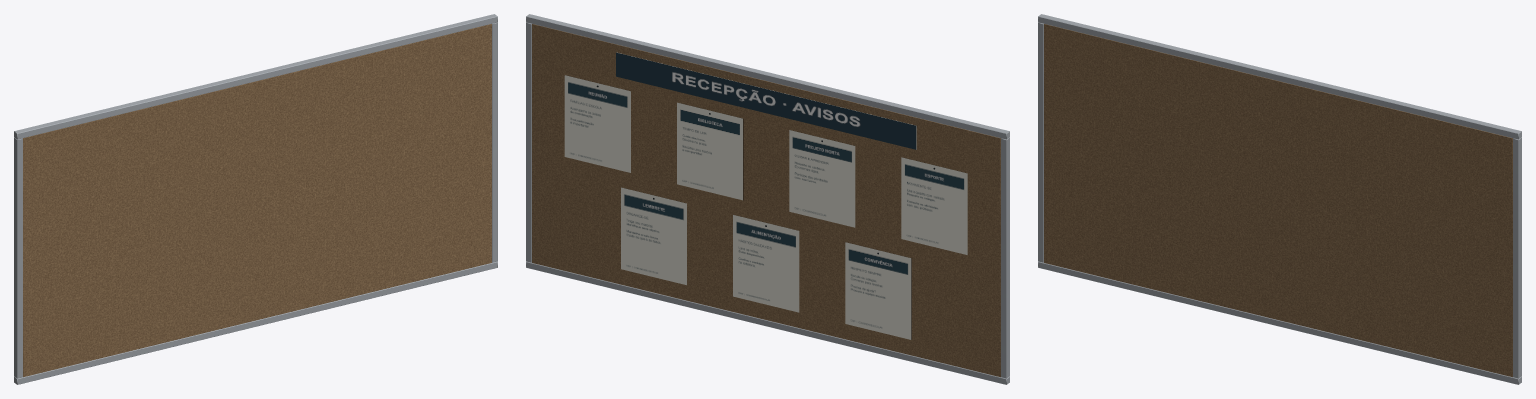
Rendered from mural_recepcao_realista.glb.
The picture shows the model from 3 angles, left to right: view 1: azimuth 30°, elevation 25°; view 2: azimuth 150°, elevation 25°; view 3: azimuth 330°, elevation 25°; orthographic projection.
Parts seen in each view (by area): view 1: Mural_Recepcao_PBR; view 2: Mural_Recepcao_PBR; view 3: Mural_Recepcao_PBR.
Part boxes in pixels (x1,y1,x2,y2): Mural_Recepcao_PBR: (14,14,497,384); Mural_Recepcao_PBR: (526,14,1009,384); Mural_Recepcao_PBR: (1038,14,1521,384).
Bounding box in the file's own units: 2.4 × 1.2 × 0.033.
1 material, 1 textured.
